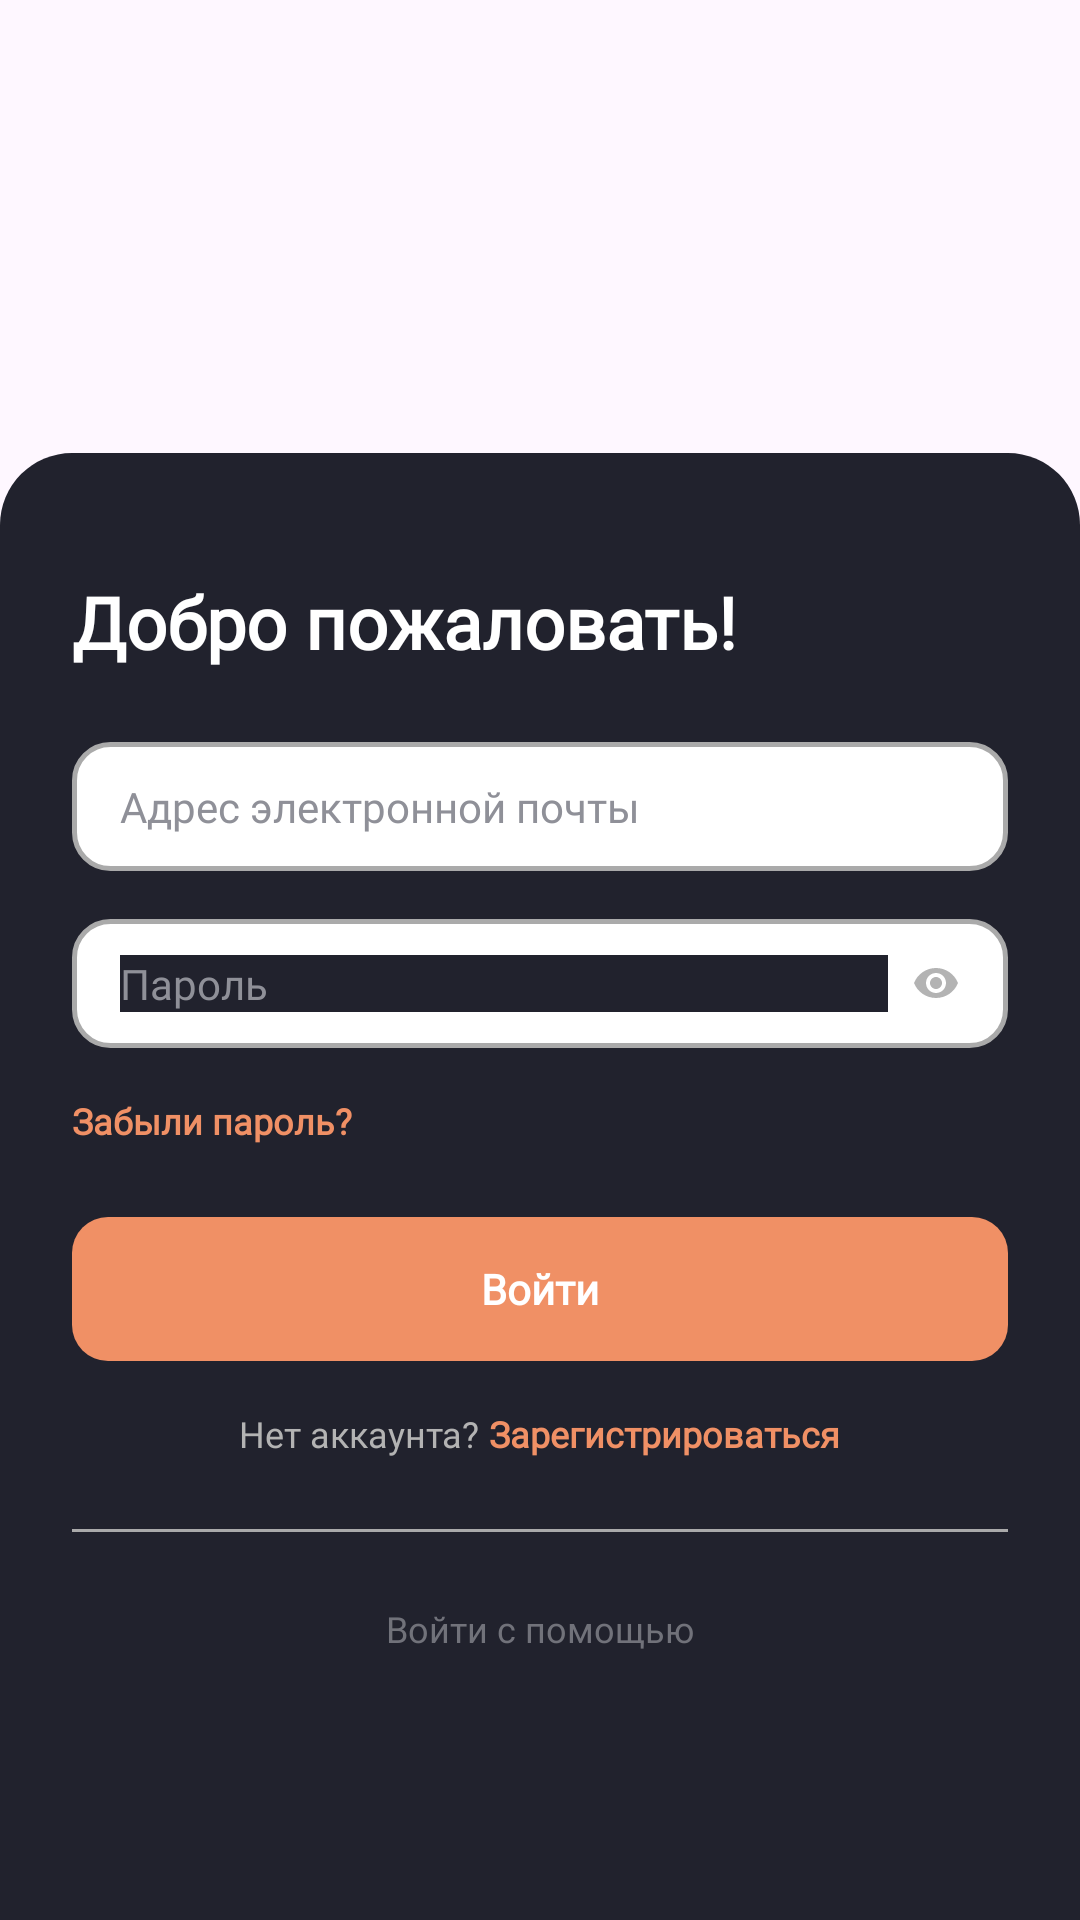

Locate icon controls on the screen. Image size 1080×1920, boxes as (x1, y1, x2, y2).
show password: (914, 968, 958, 998)
